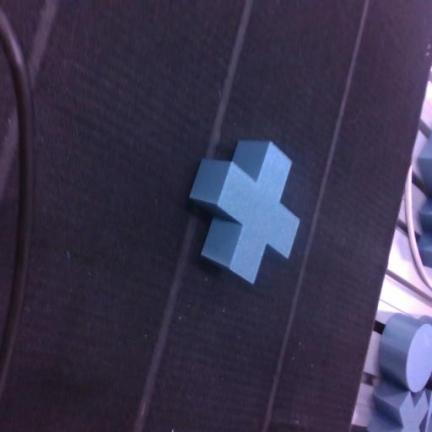cross: (190, 141, 299, 283)
